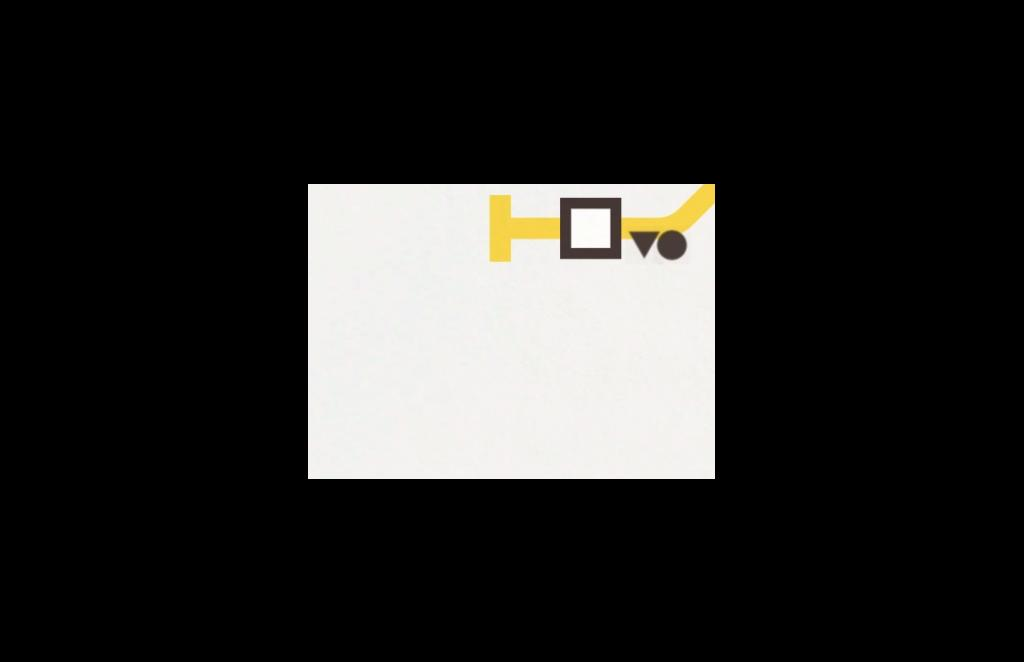connected_station: (556, 184, 650, 276)
line_endpoint: (472, 188, 538, 274)
